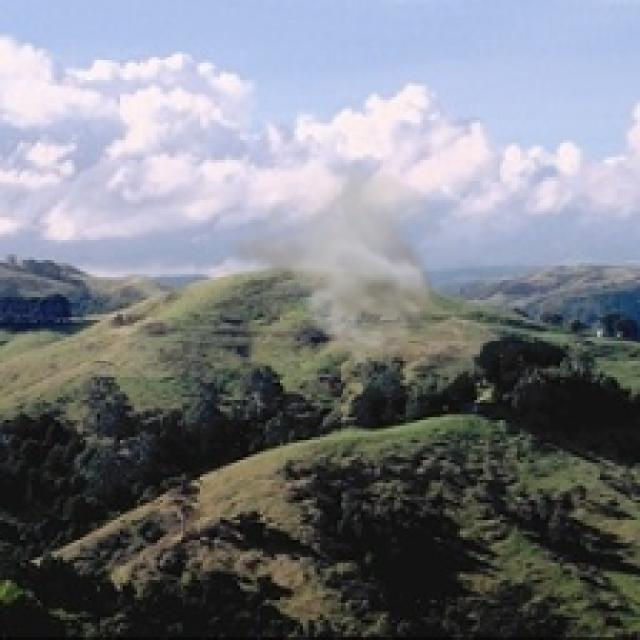smoke: (223, 154, 457, 372)
